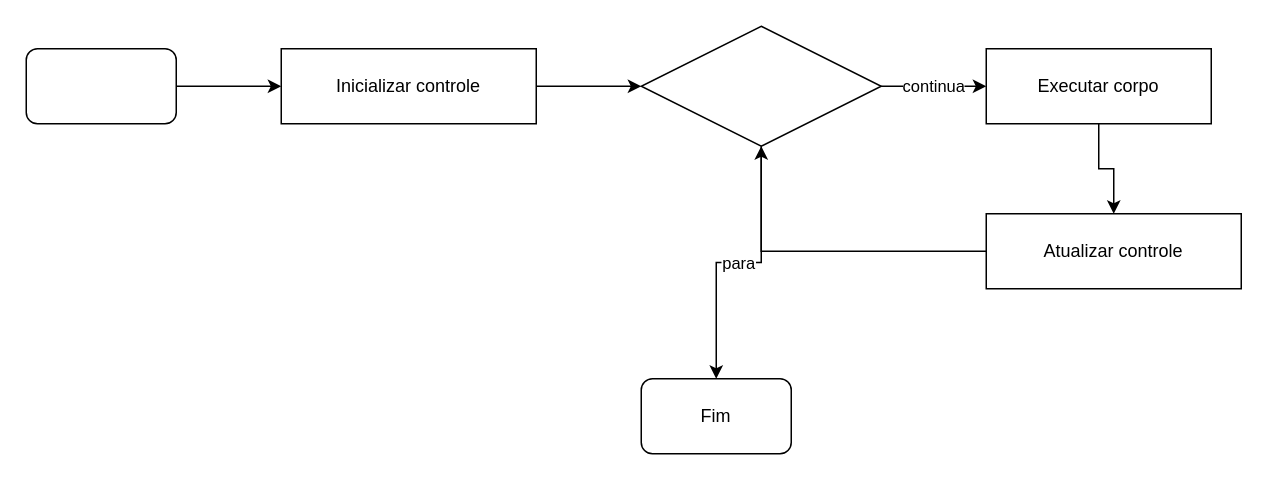
The diagram is 1268 pixels wide and 480 high, and some of its shapes have lost their labels. The centre of each missing label's shape, as x and y in pixels:
"Condição de parada" goes at (x=760, y=85).
"Início" goes at (x=100, y=85).
